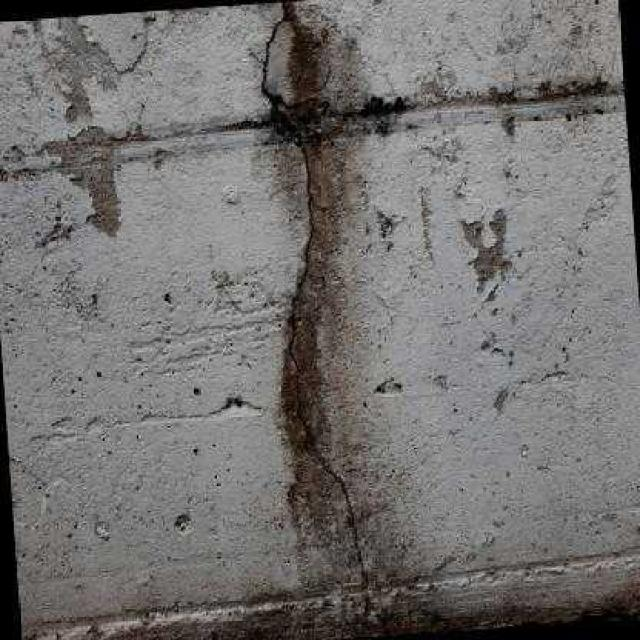D00: (257, 8, 372, 618)
